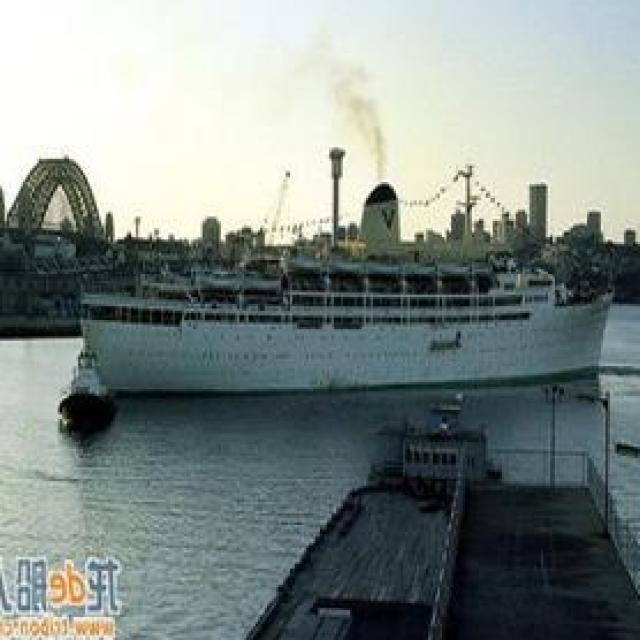passenger ship: (70, 237, 614, 386), (57, 346, 114, 419)
